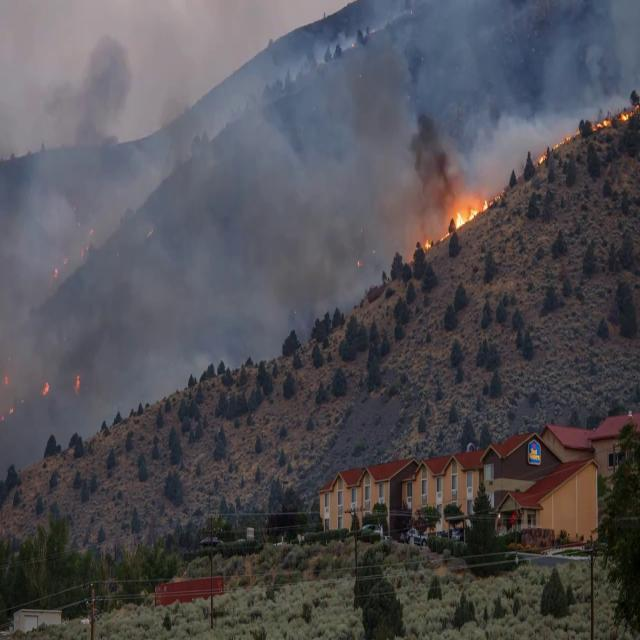Fire: (454, 206, 485, 231)
Smoke: (235, 183, 349, 285)
